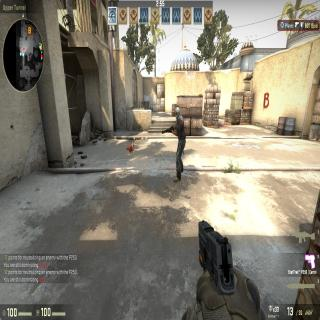T-Body: (171, 105, 187, 185)
T-Head: (173, 105, 181, 121)
